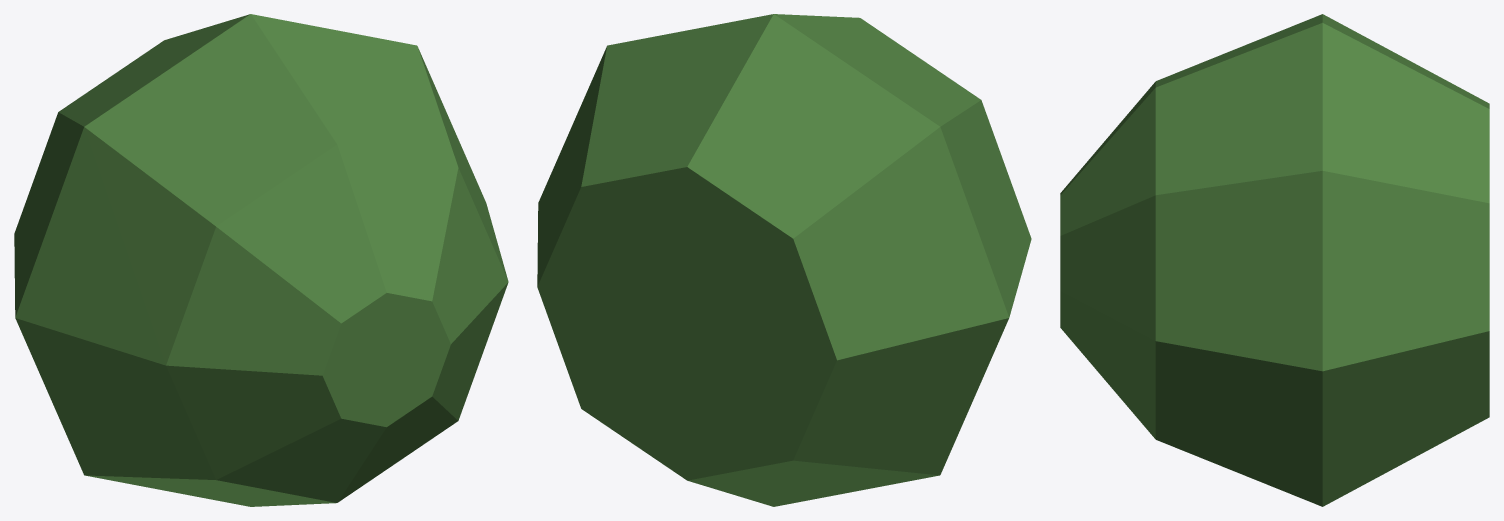
File: bush.obj
The picture shows the model from 3 angles, left to right: view 1: azimuth 30°, elevation 25°; view 2: azimuth 150°, elevation 25°; view 3: azimuth 270°, elevation 25°; orthographic projection. The views are drawn at different scales.
Size of the model in its own units: 1.1 by 1.1 by 0.9.
